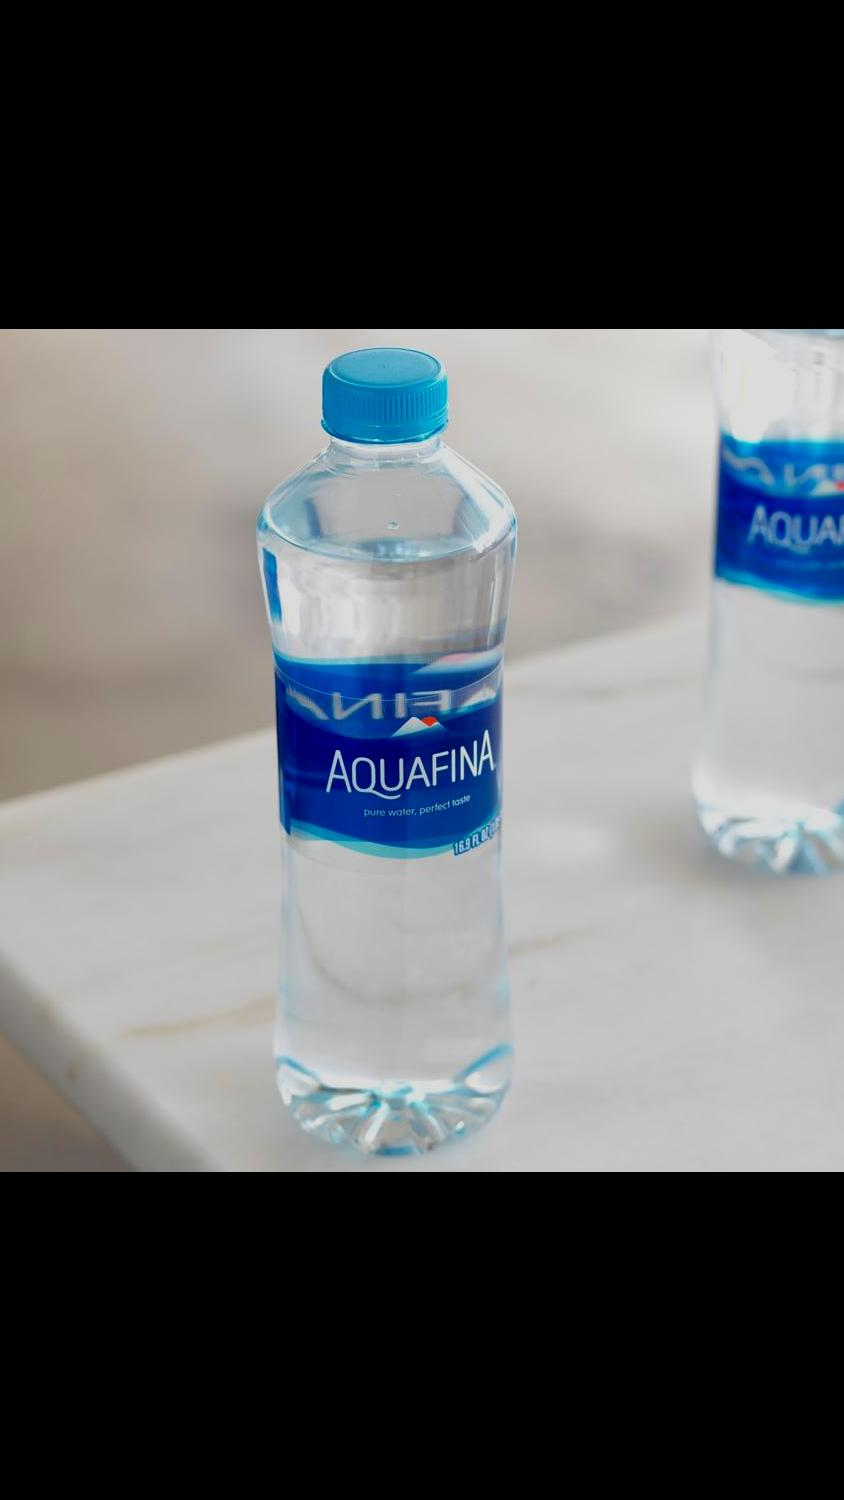bottle: (220, 350, 530, 1167), (695, 328, 844, 879)
